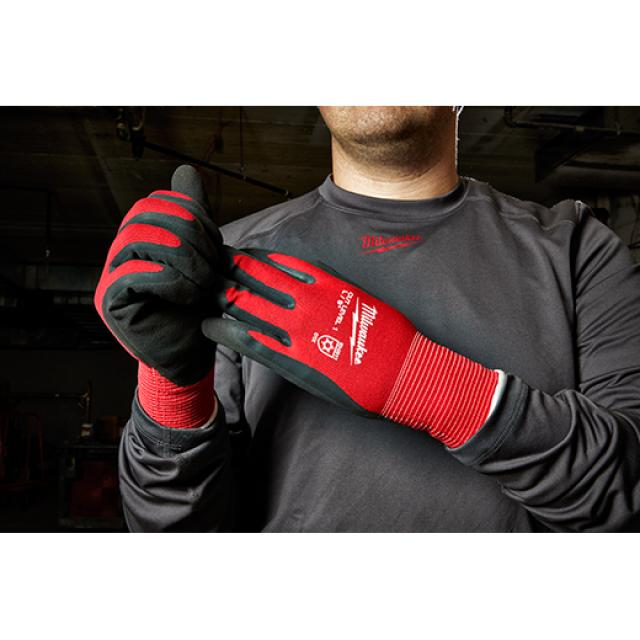gloves: (197, 247, 509, 456), (94, 161, 226, 430)
